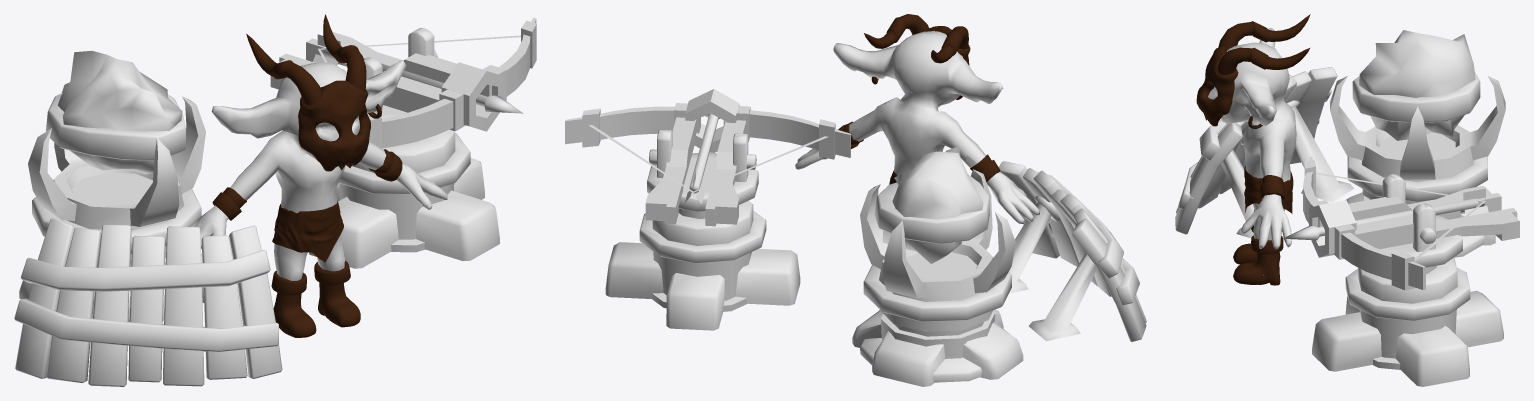
The model's file is SM_ObjectCollection.fbx.
The picture shows the model from 3 angles, left to right: view 1: azimuth 30°, elevation 25°; view 2: azimuth 150°, elevation 25°; view 3: azimuth 270°, elevation 25°; orthographic projection. The views are drawn at different scales.
Parts seen in each view (by area): view 1: Bowpart_low; view 2: Bowpart_low; view 3: Bowpart_low.
Part boxes in pixels (x1,y1,x2,y2): Bowpart_low: (14,14,536,386); Bowpart_low: (565,14,1146,386); Bowpart_low: (1175,14,1519,386).
Bounding box in the file's own units: 435 × 200 × 254.
